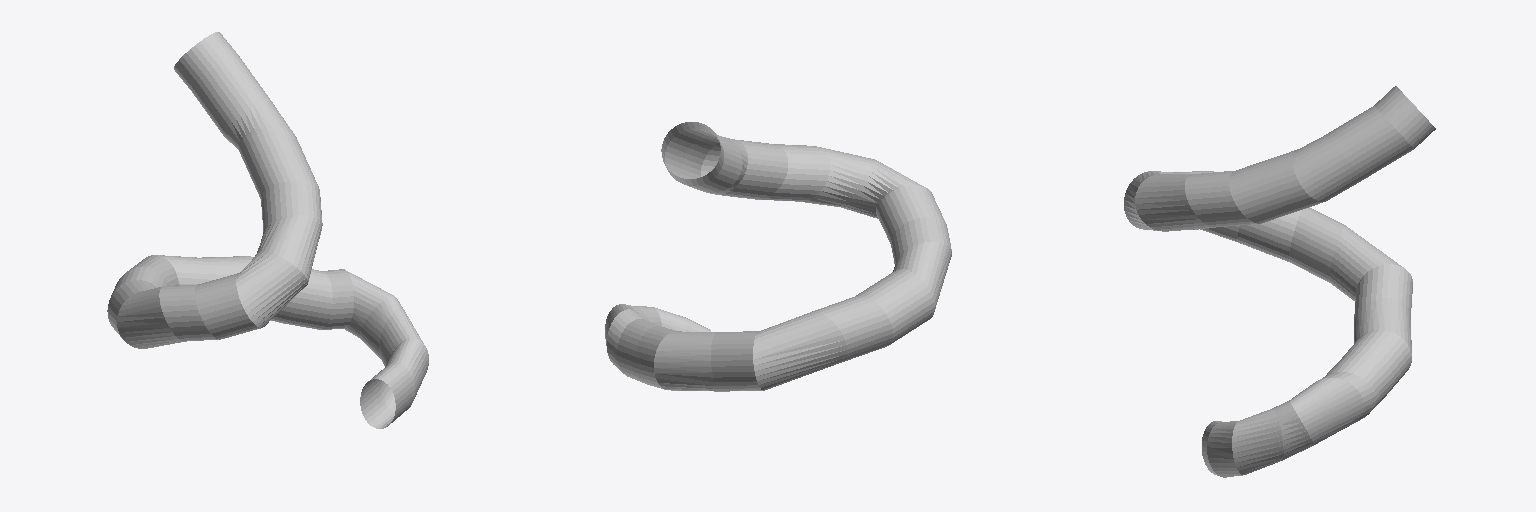
The model's file is cylindertube.obj.
3 renders of one model, left to right at view 1: azimuth 30°, elevation 25°; view 2: azimuth 150°, elevation 25°; view 3: azimuth 270°, elevation 25°, orthographic.
Visible parts, largest first — view 1: Cylinder; view 2: Cylinder; view 3: Cylinder.
Boxes of the visible parts, x1,y1,x2,y2 form: Cylinder: [107, 32, 428, 428]; Cylinder: [605, 122, 951, 391]; Cylinder: [1124, 86, 1435, 477].
Bounding box in the file's own units: 23.63 × 25.79 × 20.94.